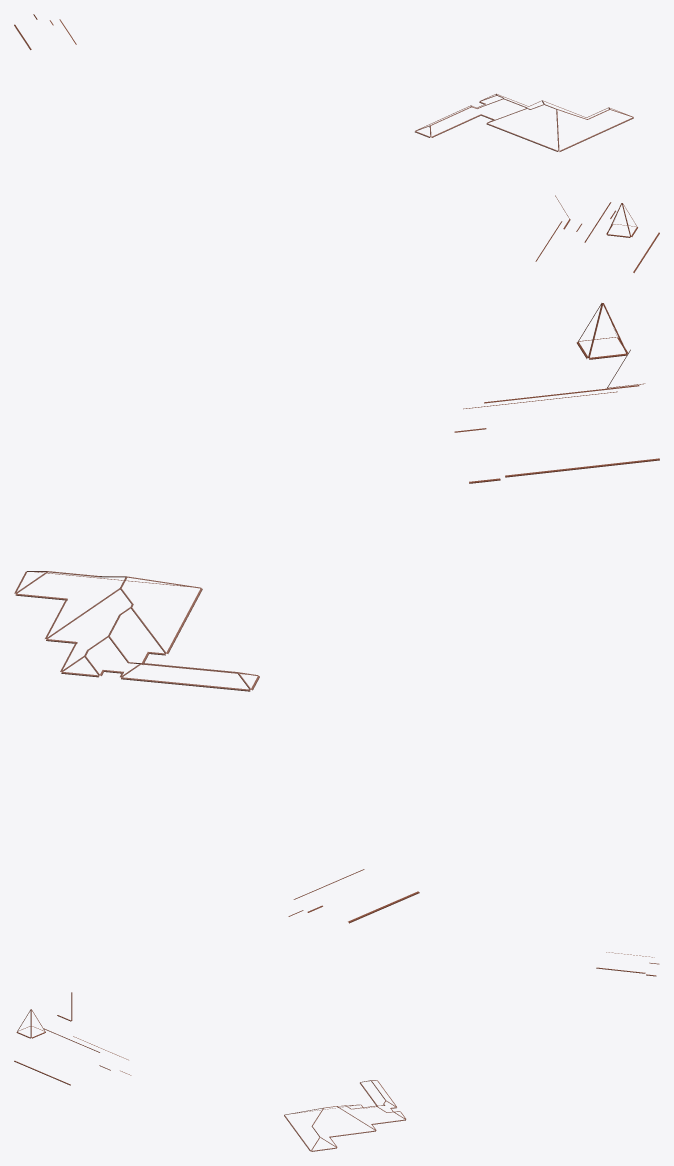
3 renders of one model, top to bottom at view 1: azimuth 30°, elevation 25°; view 2: azimuth 150°, elevation 25°; view 3: azimuth 270°, elevation 25°, orthographic. The views are drawn at different scales.
Parts seen in each view (by area): view 1: detail; view 2: detail; view 3: detail.
Part boxes in pixels (x1,y1,x2,y2): detail: (14,14,659,272); detail: (14,303,659,923); detail: (14,952,659,1151).
Size of the model in its own units: 128 by 24.74 by 207.
